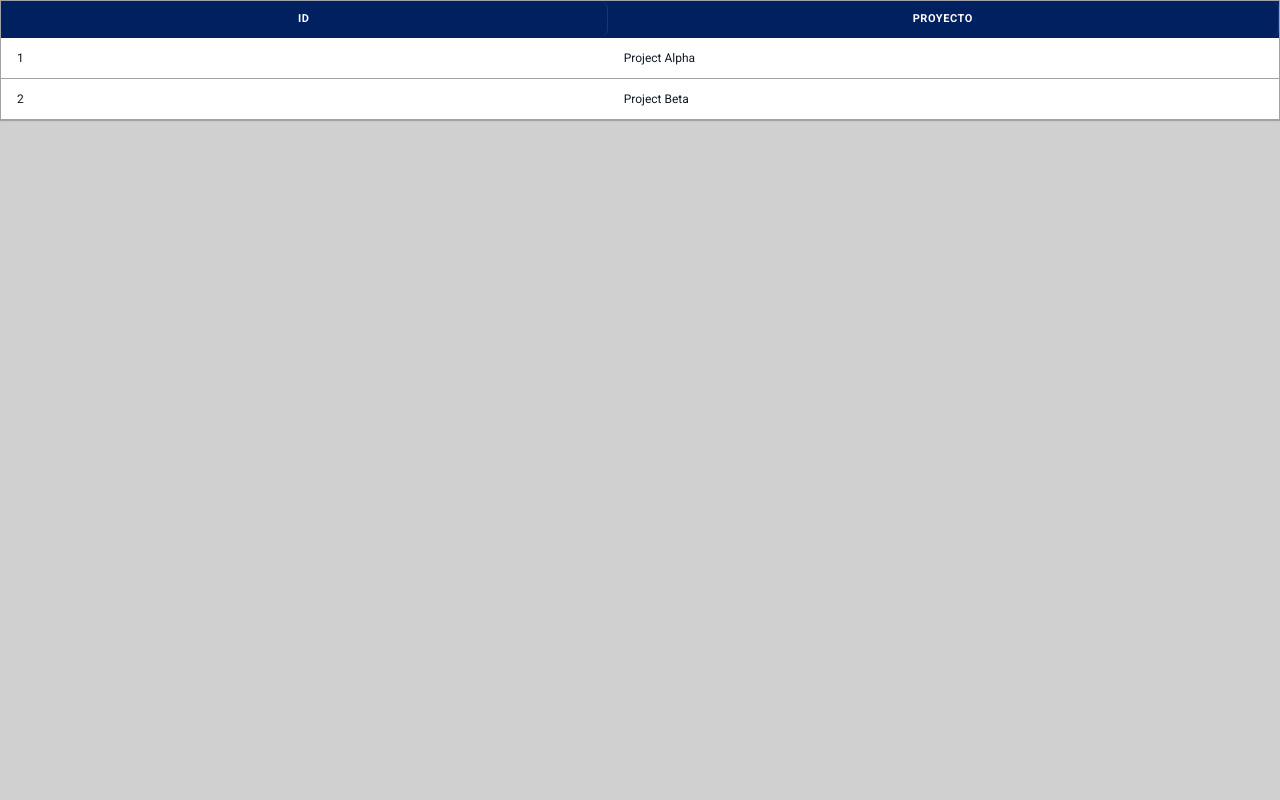
Test case: DataTable sub-filtering › opens filter dropdown and displays sub-filter tab buttons
This screenshot has width=1280, height=800.
# Click on filter button for 'ID' column
Click the button "ID" at (304, 19), box x1=1 y1=1 x2=608 y2=37
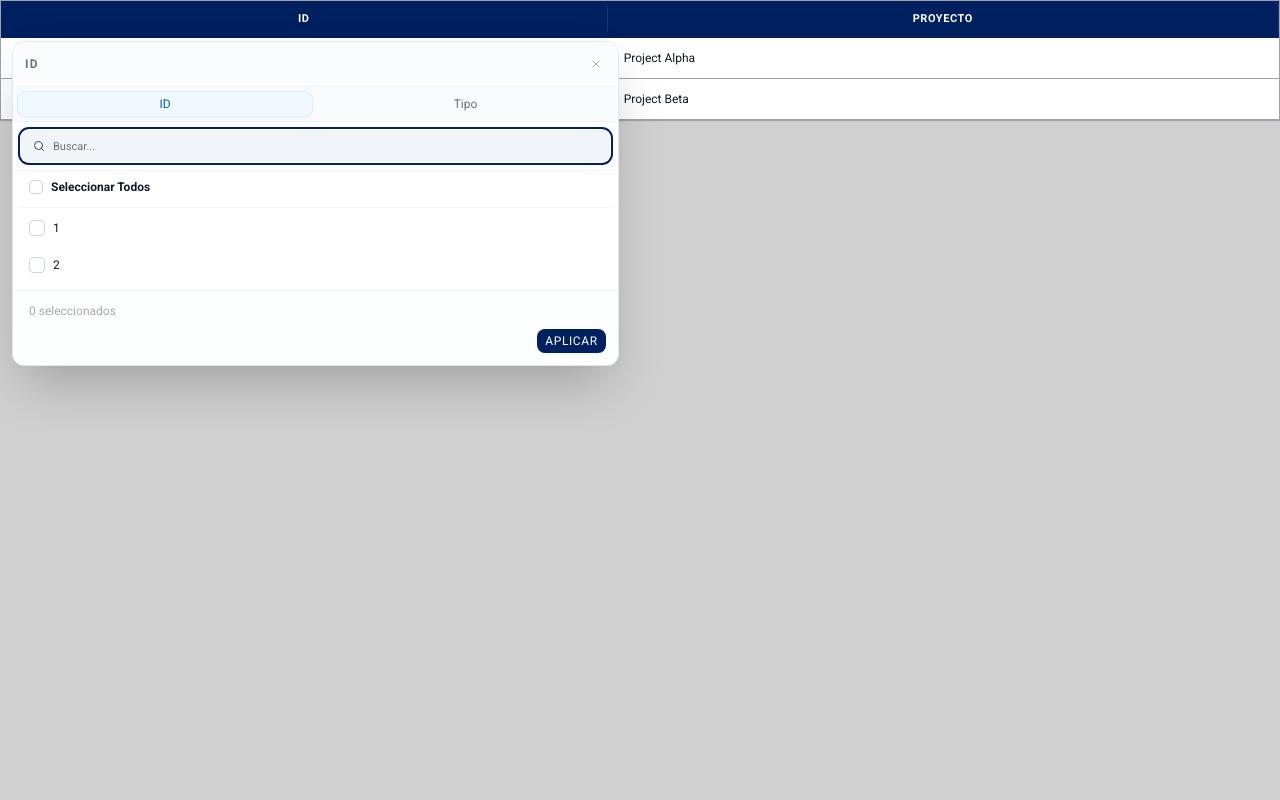
Expected: the button "Tipo" is shown, x1=317 y1=91 x2=614 y2=117
